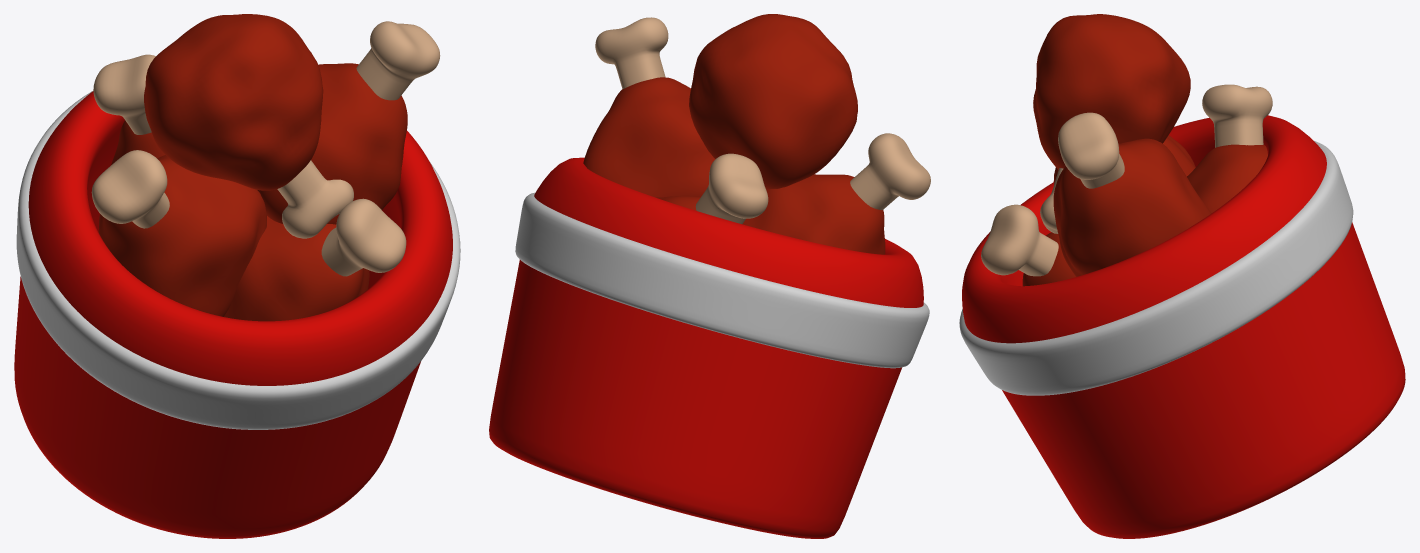
Rendered from Fried Chicken Bucket.obj.
3 renders of one model, left to right at view 1: azimuth 30°, elevation 25°; view 2: azimuth 150°, elevation 25°; view 3: azimuth 270°, elevation 25°, orthographic. The views are drawn at different scales.
Parts seen in each view (by area): view 1: Cylinder.012_Cylinder.061, Cube.029_Cube.090, Cylinder.013_Cylinder.018, Cube.023_Cube.096, Cube.021_Cube.098, Cube.025_Cube.094, Cube.024_Cube.095, Cube.022_Cube.097, Cube.020_Cube.099, Cube.028_Cube.091, Cube.026_Cube.093, Cube.027_Cube.092; view 2: Cylinder.012_Cylinder.061, Cylinder.013_Cylinder.018, Cube.029_Cube.090, Cube.021_Cube.098, Cube.023_Cube.096, Cube.022_Cube.097, Cube.026_Cube.093, Cube.020_Cube.099; view 3: Cylinder.012_Cylinder.061, Cylinder.013_Cylinder.018, Cube.029_Cube.090, Cube.021_Cube.098, Cube.024_Cube.095, Cube.020_Cube.099, Cube.026_Cube.093, Cube.027_Cube.092, Cube.025_Cube.094, Cube.023_Cube.096, Cube.028_Cube.091.
Boxes of the visible parts, x1,y1,x2,y2 form: Cylinder.012_Cylinder.061: [14, 91, 452, 538]; Cube.029_Cube.090: [144, 14, 323, 190]; Cylinder.013_Cylinder.018: [16, 91, 460, 429]; Cube.023_Cube.096: [98, 155, 266, 316]; Cube.021_Cube.098: [257, 63, 407, 224]; Cube.025_Cube.094: [223, 216, 369, 321]; Cube.024_Cube.095: [321, 198, 406, 276]; Cube.022_Cube.097: [91, 150, 169, 228]; Cube.020_Cube.099: [356, 21, 440, 100]; Cube.028_Cube.091: [277, 160, 353, 238]; Cube.026_Cube.093: [93, 54, 155, 134]; Cube.027_Cube.092: [111, 120, 164, 164]; Cylinder.012_Cylinder.061: [489, 157, 923, 538]; Cylinder.013_Cylinder.018: [515, 192, 929, 368]; Cube.029_Cube.090: [689, 14, 857, 189]; Cube.021_Cube.098: [583, 77, 715, 197]; Cube.023_Cube.096: [742, 174, 885, 254]; Cube.022_Cube.097: [850, 133, 930, 209]; Cube.026_Cube.093: [695, 153, 768, 223]; Cube.020_Cube.099: [595, 17, 668, 89]; Cylinder.012_Cylinder.061: [962, 115, 1405, 538]; Cylinder.013_Cylinder.018: [959, 141, 1353, 395]; Cube.029_Cube.090: [1033, 14, 1190, 169]; Cube.021_Cube.098: [1053, 138, 1211, 276]; Cube.024_Cube.095: [981, 204, 1058, 276]; Cube.020_Cube.099: [1058, 112, 1124, 188]; Cube.026_Cube.093: [1202, 84, 1272, 147]; Cube.027_Cube.092: [1187, 144, 1267, 213]; Cube.025_Cube.094: [1022, 232, 1075, 286]; Cube.023_Cube.096: [1053, 135, 1195, 184]; Cube.028_Cube.091: [1040, 168, 1063, 233].
Bounding box in the file's own units: 6.39 × 8.17 × 6.9.
